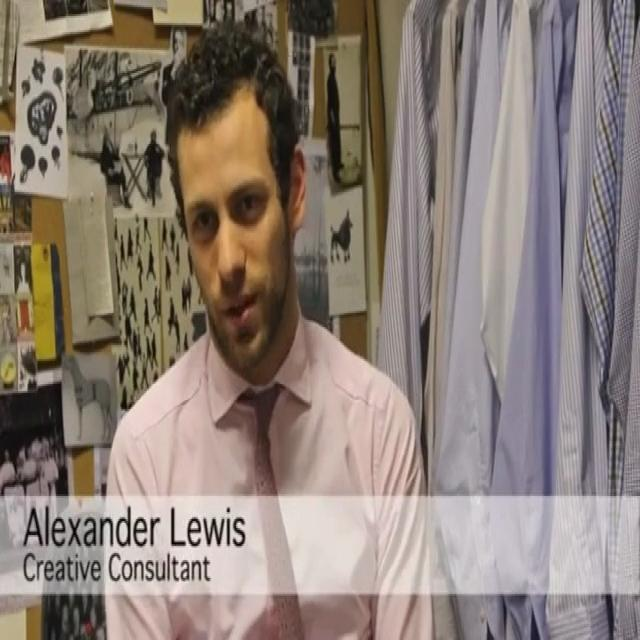shirt: (99, 297, 433, 640)
